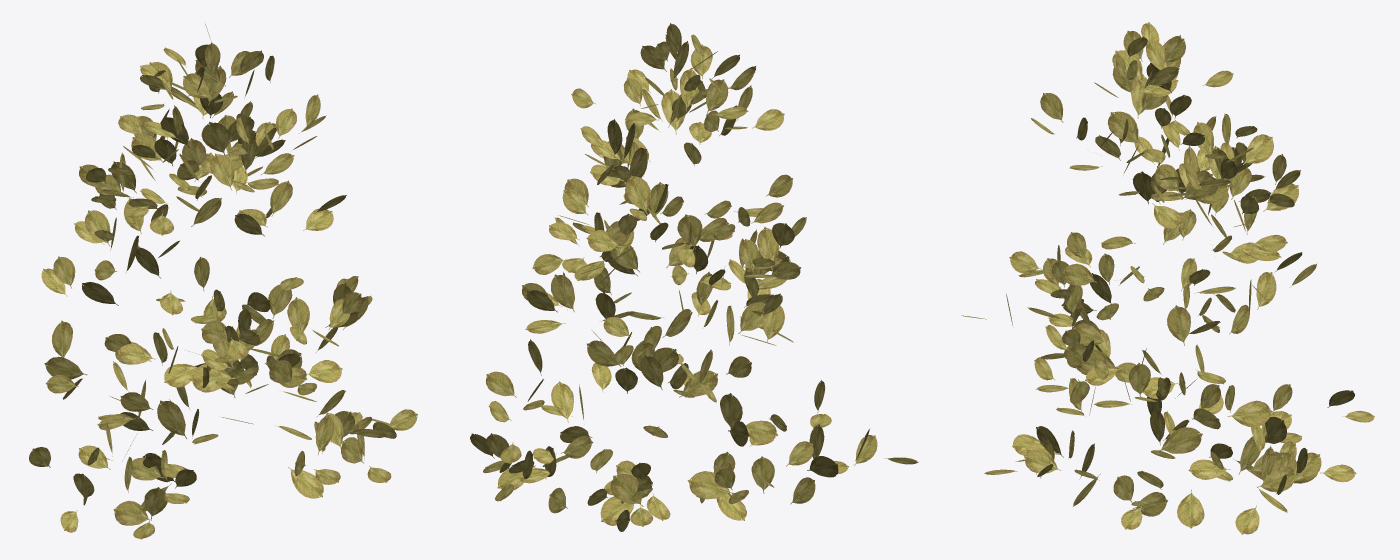
Rendered from Bush_Leaves03.fbx.
The picture shows the model from 3 angles, left to right: view 1: azimuth 30°, elevation 25°; view 2: azimuth 150°, elevation 25°; view 3: azimuth 270°, elevation 25°; orthographic projection. The views are drawn at different scales.
Visible parts, largest first — view 1: Bush_Leaves03; view 2: Bush_Leaves03; view 3: Bush_Leaves03.
Boxes of the visible parts, x1,y1,x2,y2 form: Bush_Leaves03: (29, 24, 417, 539); Bush_Leaves03: (470, 23, 918, 531); Bush_Leaves03: (961, 22, 1374, 534).
Bounding box in the file's own units: 57.4 × 69.71 × 57.74.
